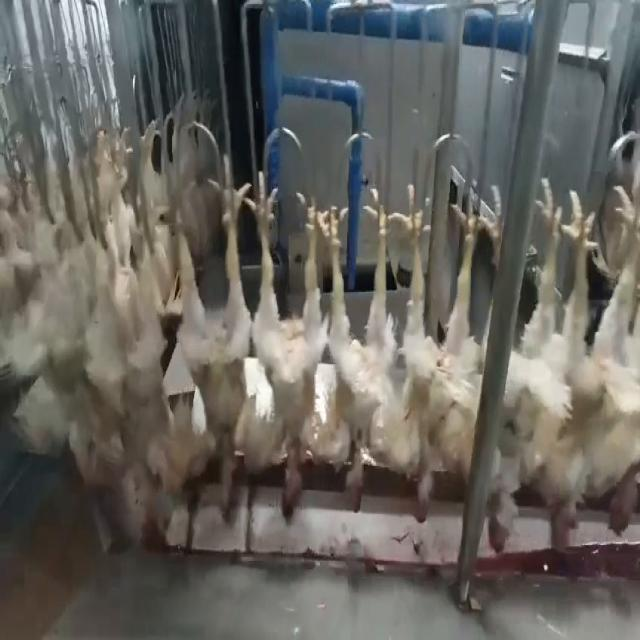chicken: (247, 169, 327, 527), (402, 192, 484, 526), (530, 180, 599, 559), (108, 169, 176, 534), (323, 182, 394, 523), (177, 149, 239, 518), (584, 174, 639, 539), (480, 186, 507, 555)
